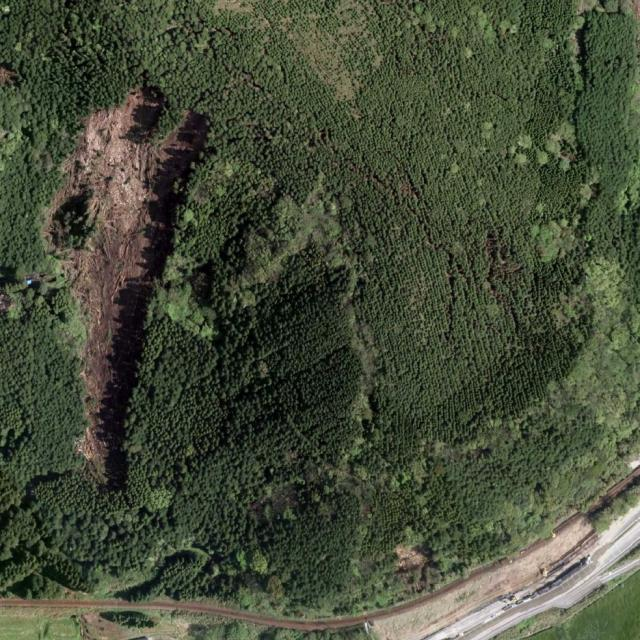landslide: (45, 89, 203, 488)
